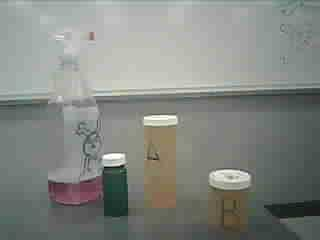Bottle A: (137, 113, 181, 213)
Bottle B: (205, 168, 258, 240)
Bottle C: (102, 151, 130, 216)
hazard: (41, 25, 105, 204)
